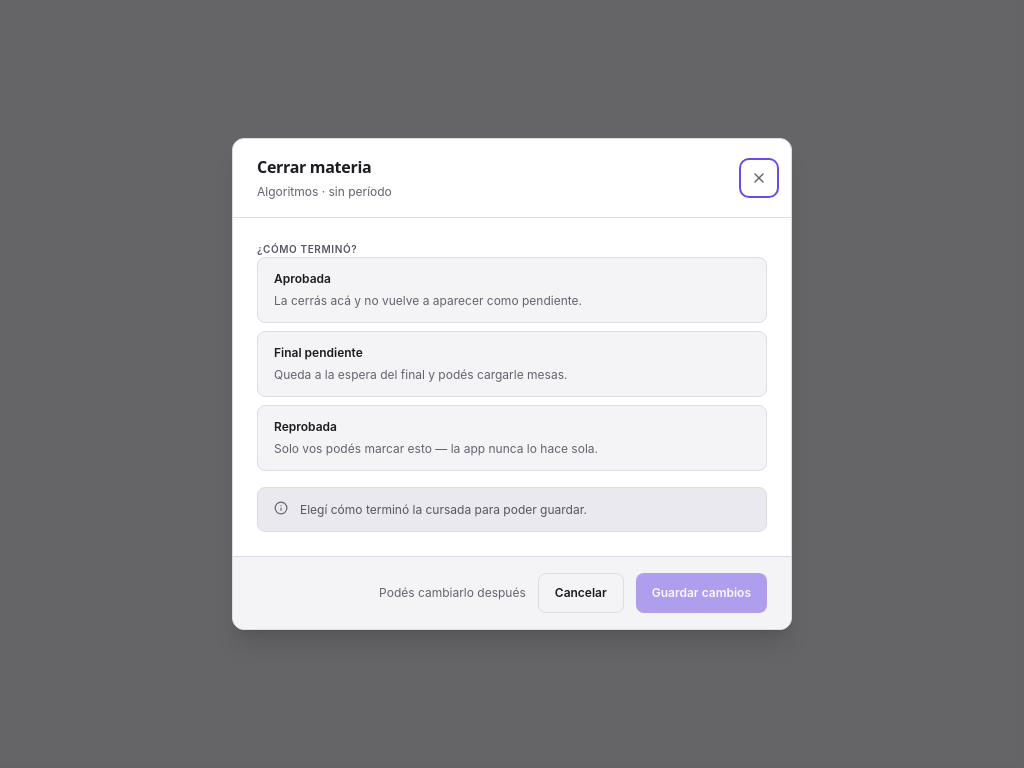
it: CerrarMateriaModal — undecided subject starts with nothing selected › selecting an outcome enables Guardar and clears the prompt
Click the button "Aprobada" at (512, 290), box [257, 257, 767, 323]
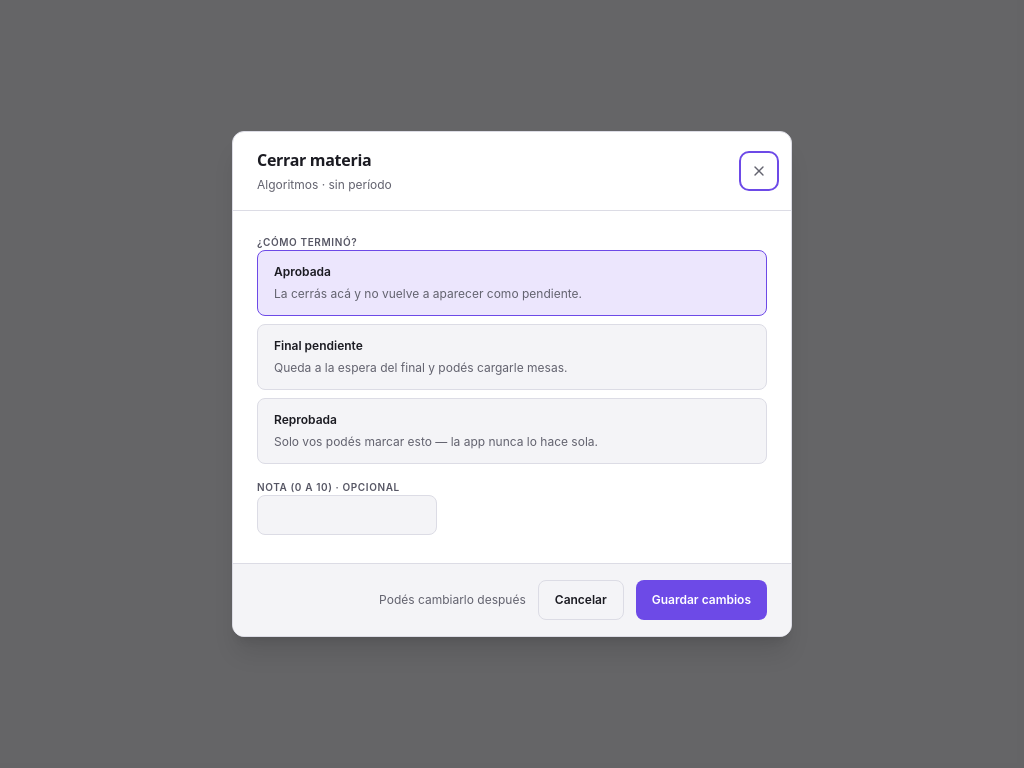
Now the button "Guardar cambios" is enabled, box [636, 580, 767, 620]
Now the text "Elegí cómo terminó la cursada para poder guardar." is gone
